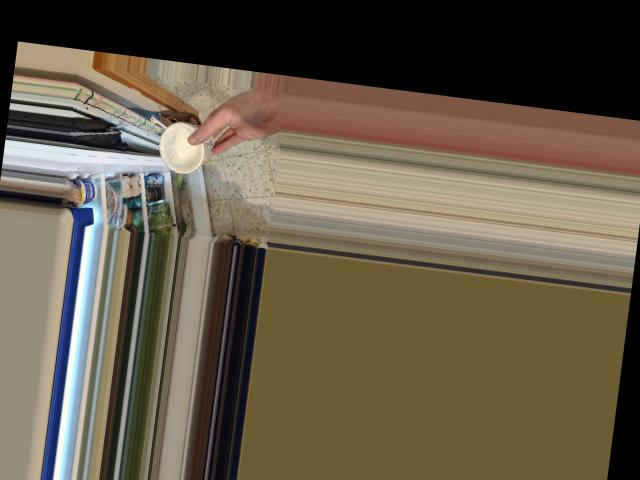cotage: (150, 116, 219, 174)
